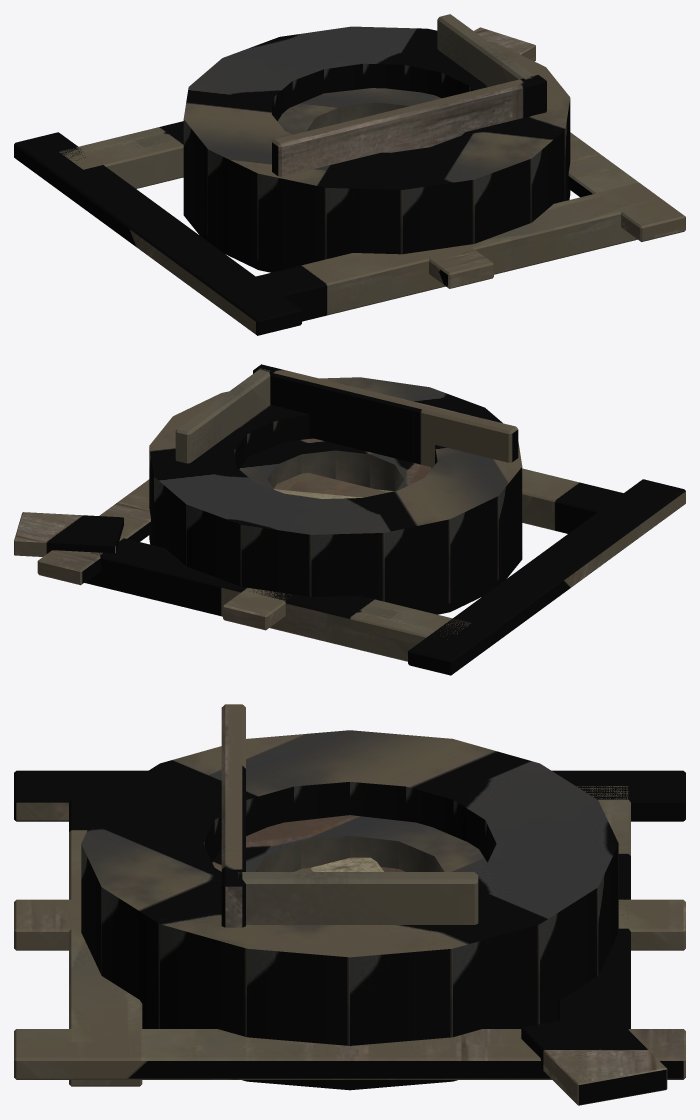
Rendered from prop_floor_scatter.glb.
3 renders of one model, top to bottom at view 1: azimuth 30°, elevation 25°; view 2: azimuth 150°, elevation 25°; view 3: azimuth 270°, elevation 25°, orthographic. The views are drawn at different scales.
Parts seen in each view (by area): view 1: Tire_01, BrokenPallet_01, CrateFragment_01; view 2: Tire_01, BrokenPallet_01, CrateFragment_01, Brick_01; view 3: Tire_01, BrokenPallet_01, CrateFragment_01, Brick_02.
Boxes of the visible parts, box(x1,y1,x2,y2) form: Tire_01: box(183, 26, 570, 272); BrokenPallet_01: box(14, 27, 685, 335); CrateFragment_01: box(272, 14, 546, 176); Tire_01: box(149, 377, 522, 614); BrokenPallet_01: box(14, 468, 685, 675); CrateFragment_01: box(175, 364, 518, 468); Brick_01: box(274, 473, 388, 497); Tire_01: box(81, 730, 618, 1090); BrokenPallet_01: box(14, 770, 685, 1105); CrateFragment_01: box(221, 704, 478, 927); Brick_02: box(310, 857, 383, 871).
Bounding box in the file's own units: 0.6305 × 0.16 × 0.55.
Materials: 7 (7 with a texture image).
